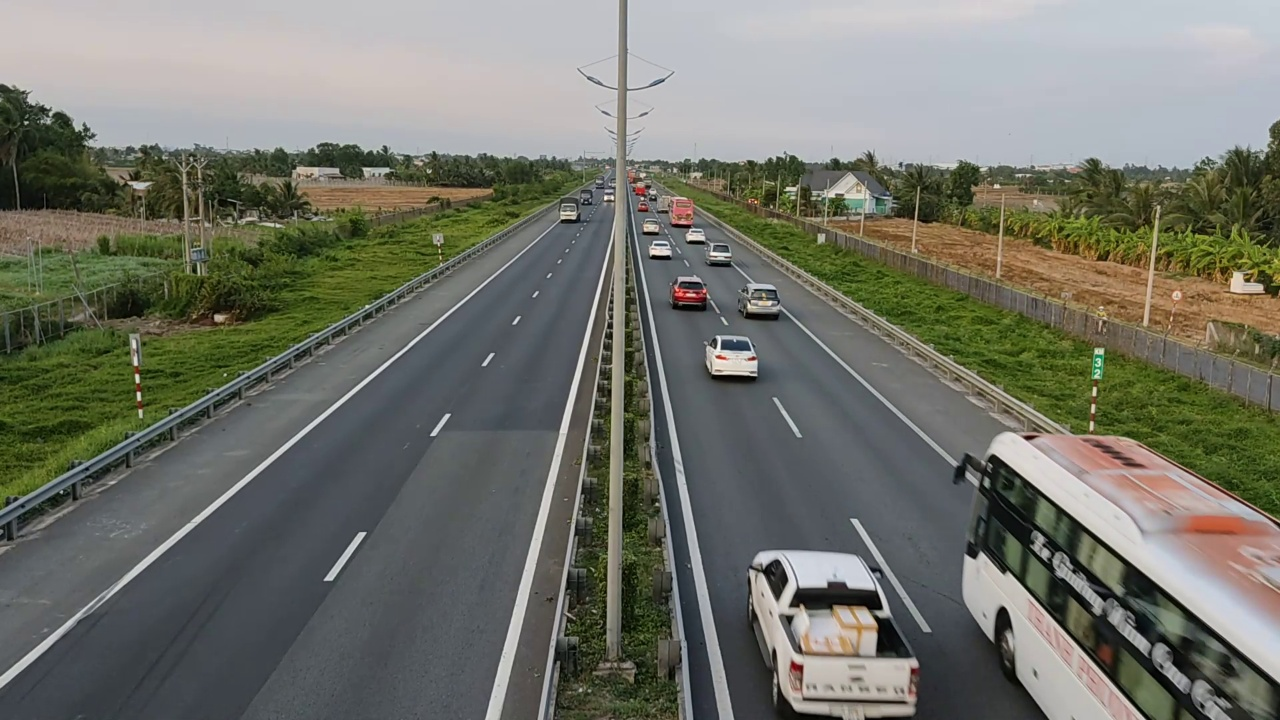bus: (962, 434, 1277, 714)
car: (745, 547, 917, 719), (702, 333, 760, 379), (737, 282, 781, 318), (669, 275, 708, 309), (705, 242, 732, 266), (649, 239, 673, 259)
